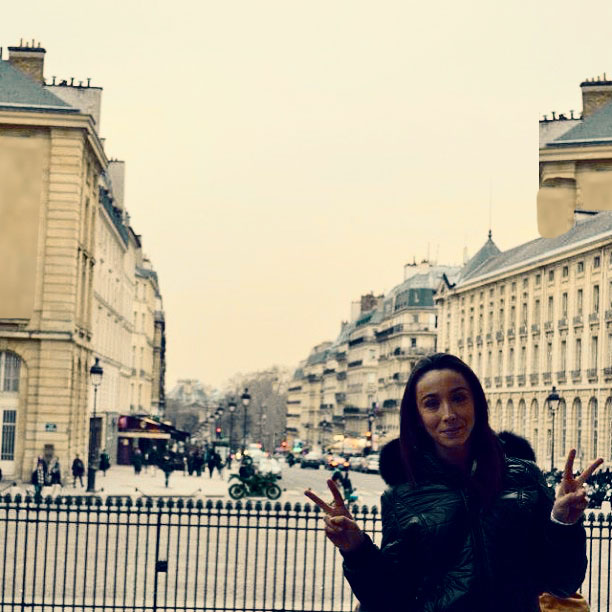copymove: (534, 74, 612, 240)
removal: (247, 363, 276, 473)
spliced: (229, 461, 281, 501)
